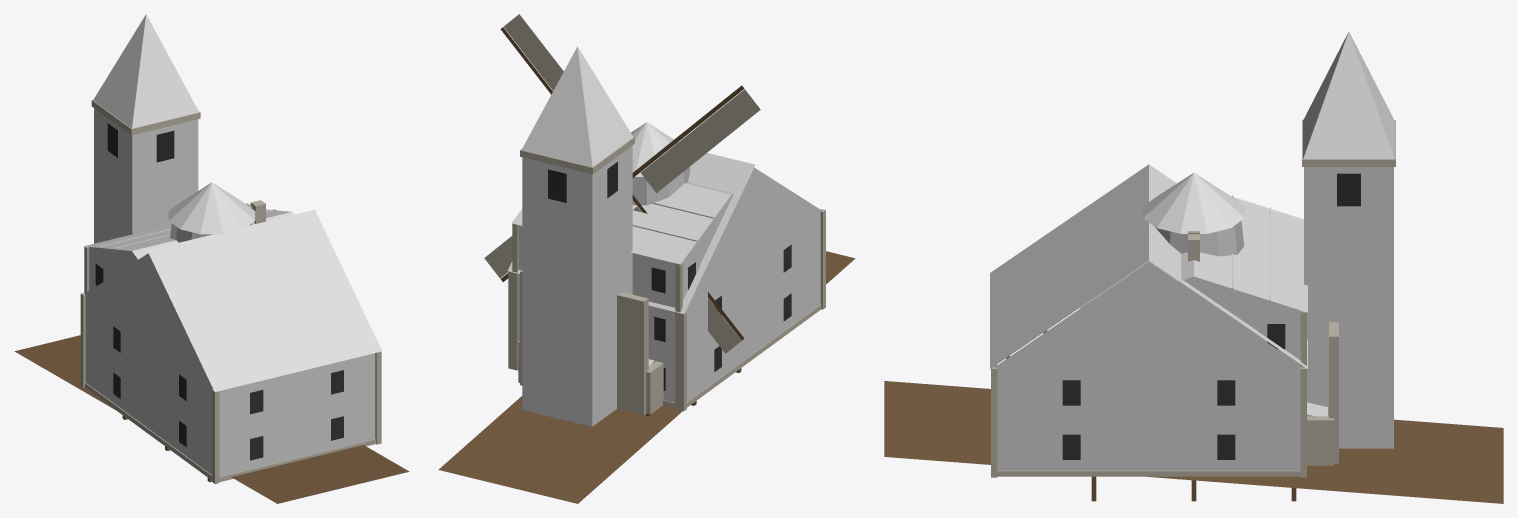
The model's file is sandy.glb.
3 renders of one model, left to right at view 1: azimuth 30°, elevation 25°; view 2: azimuth 150°, elevation 25°; view 3: azimuth 270°, elevation 25°, orthographic. The views are drawn at different scales.
Parts seen in each view (by area): view 1: church, shipyard-slip, windmill, merchants-house; view 2: church, shipyard-slip, merchants-house, windmill, chapel-ruin; view 3: church, shipyard-slip, merchants-house, windmill, chapel-ruin.
Part boxes in pixels (left/top/right/bottom): church: left=80, top=14, right=381, bottom=483; shipyard-slip: left=14, top=335, right=409, bottom=503; windmill: left=168, top=182, right=255, bottom=242; merchants-house: left=84, top=200, right=293, bottom=293; church: left=507, top=46, right=825, bottom=426; shipyard-slip: left=438, top=251, right=855, bottom=503; merchants-house: left=511, top=182, right=736, bottom=409; windmill: left=484, top=14, right=760, bottom=353; chapel-ruin: left=518, top=270, right=663, bottom=415; church: left=990, top=31, right=1395, bottom=477; shipyard-slip: left=884, top=330, right=1503, bottom=503; merchants-house: left=1080, top=195, right=1327, bottom=416; windmill: left=1143, top=173, right=1244, bottom=256; chapel-ruin: left=1307, top=322, right=1338, bottom=465.
Bounding box in the file's own units: 17.82 × 24.5 × 31.
